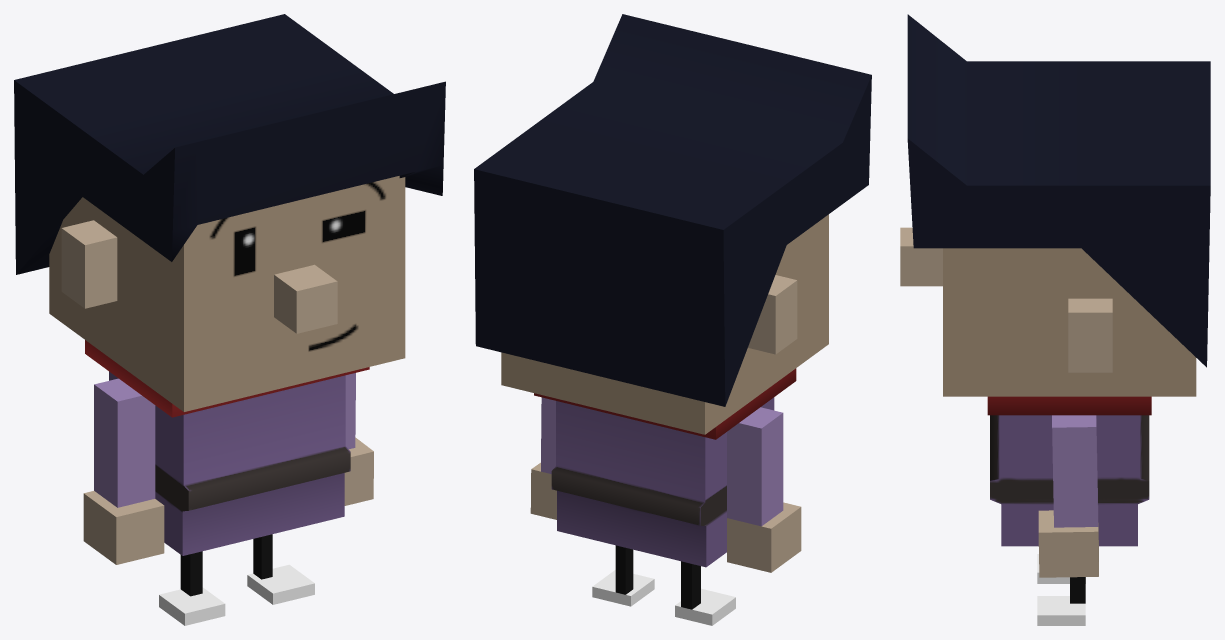
The model's file is LeftPunch_UPDATED.fbx.
3 views of the same model, side by side, from view 1: azimuth 30°, elevation 25°; view 2: azimuth 150°, elevation 25°; view 3: azimuth 270°, elevation 25° (orthographic). The views are drawn at different scales.
Visible parts, largest first — view 1: hair, head, torso, RightArm, ear2, nose, RightLeg, Leftleg, LeftArm; view 2: hair, torso, head, RightArm, ear2, LeftArm, RightLeg, Leftleg; view 3: hair, head, torso, LeftArm, ear, nose, Leftleg.
Boxes of the visible parts, x1=… form: hair: x1=14, y1=14, x2=445, y2=274; head: x1=49, y1=176, x2=405, y2=411; torso: x1=85, y1=340, x2=369, y2=555; RightArm: x1=83, y1=378, x2=164, y2=564; ear2: x1=61, y1=220, x2=117, y2=308; nose: x1=274, y1=264, x2=337, y2=333; RightLeg: x1=159, y1=551, x2=225, y2=625; Leftleg: x1=247, y1=534, x2=314, y2=604; LeftArm: x1=344, y1=373, x2=373, y2=505; hair: x1=474, y1=14, x2=871, y2=406; torso: x1=534, y1=368, x2=796, y2=567; head: x1=501, y1=214, x2=828, y2=434; RightArm: x1=727, y1=407, x2=801, y2=572; ear2: x1=748, y1=275, x2=797, y2=354; LeftArm: x1=530, y1=397, x2=556, y2=519; RightLeg: x1=675, y1=561, x2=735, y2=625; Leftleg: x1=592, y1=545, x2=654, y2=606; hair: x1=907, y1=14, x2=1210, y2=367; head: x1=943, y1=248, x2=1196, y2=396; torso: x1=987, y1=396, x2=1151, y2=546; LeftArm: x1=1038, y1=415, x2=1098, y2=577; ear: x1=1068, y1=298, x2=1112, y2=372; nose: x1=900, y1=227, x2=942, y2=286; Leftleg: x1=1037, y1=577, x2=1085, y2=625.
Size of the model in its own units: 100 by 185 by 101.
1 material, 1 textured.
